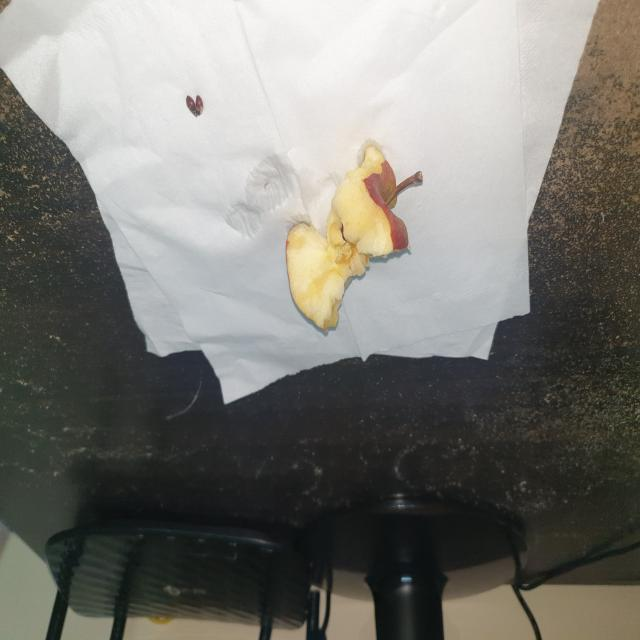apple: (285, 134, 434, 349)
